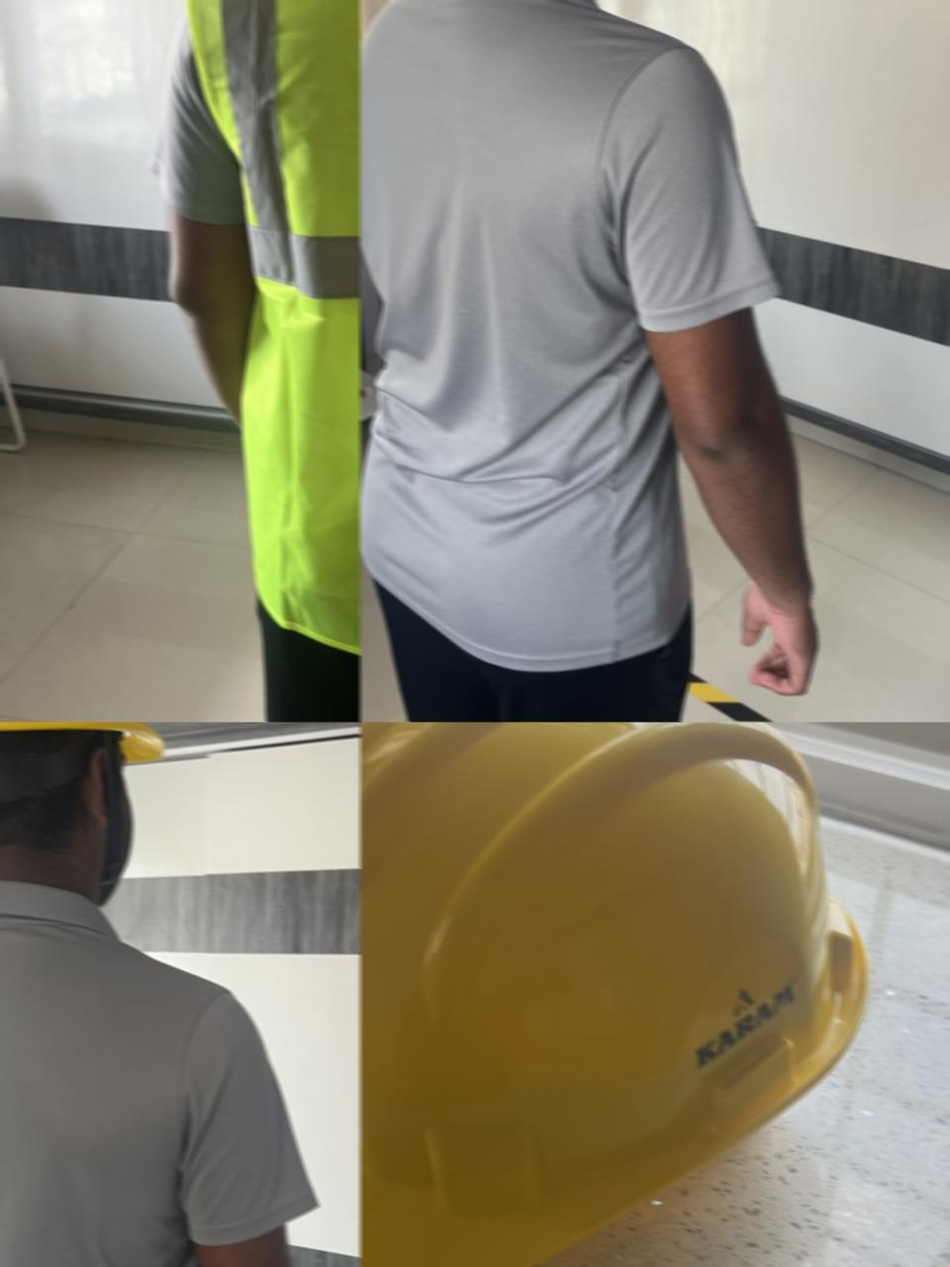BorderLine: (676, 671, 950, 722)
Helmet: (360, 722, 870, 1267)
No_Vest: (360, 0, 783, 671), (0, 880, 320, 1267)
Person: (360, 0, 820, 722), (0, 722, 320, 1267), (149, 0, 361, 722)
Vest: (186, 0, 361, 672)
